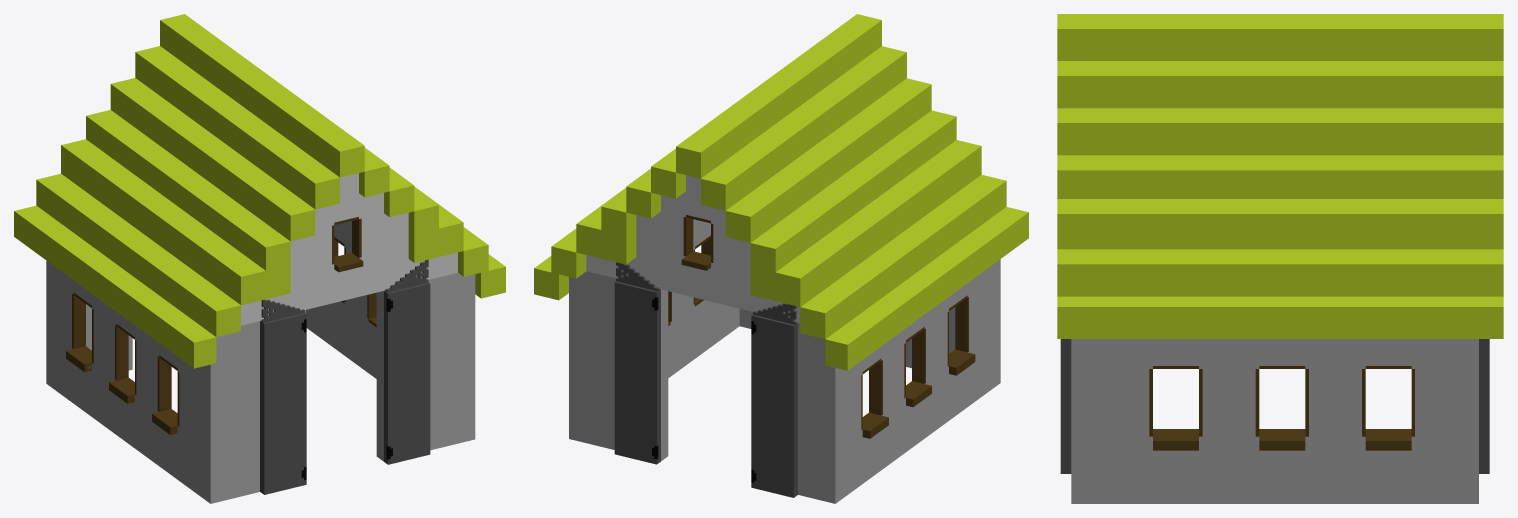
Rendered from ferm.obj.
The picture shows the model from 3 angles, left to right: view 1: azimuth 30°, elevation 25°; view 2: azimuth 150°, elevation 25°; view 3: azimuth 270°, elevation 25°; orthographic projection. The views are drawn at different scales.
Size of the model in its own units: 12.6 by 12.6 by 12.6.
Materials: 1 (1 with a texture image).
